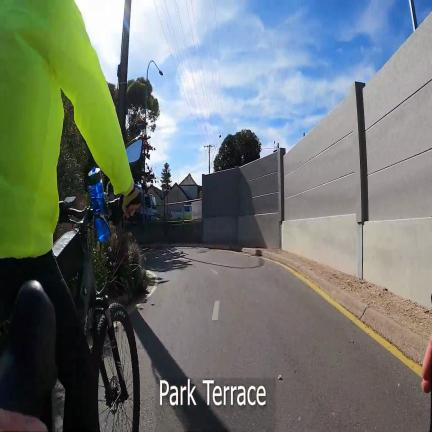Bike_Lane: (131, 247, 430, 432)
